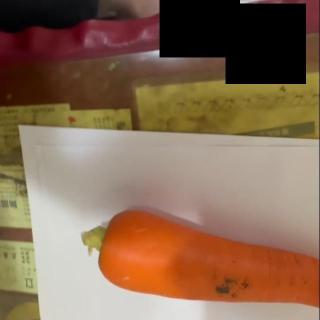carrot: (81, 208, 320, 313)
